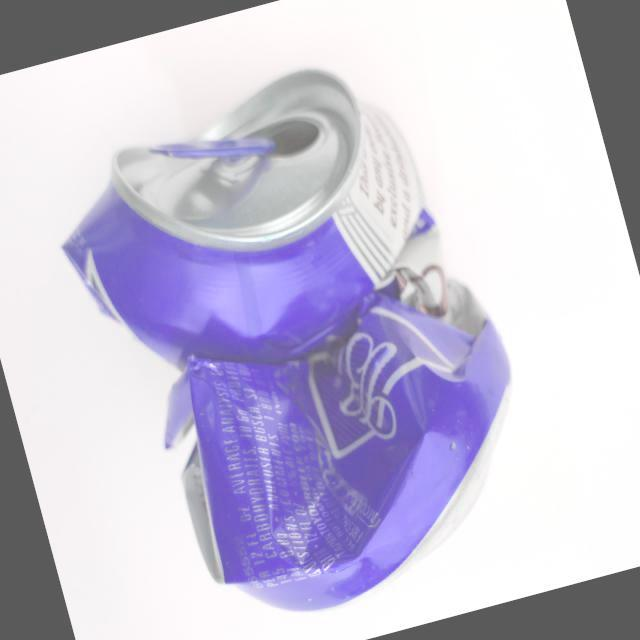metal: (21, 19, 568, 640)
